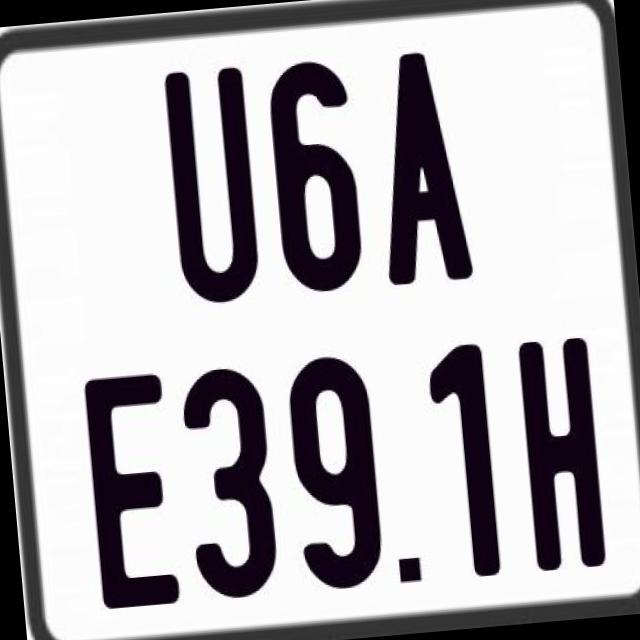1: (422, 342, 499, 581)
3: (177, 362, 282, 607)
6: (262, 54, 361, 296)
9: (283, 348, 388, 596)
A: (365, 46, 477, 284)
E: (78, 372, 182, 609)
H: (514, 333, 610, 578)
U: (162, 62, 264, 305)
